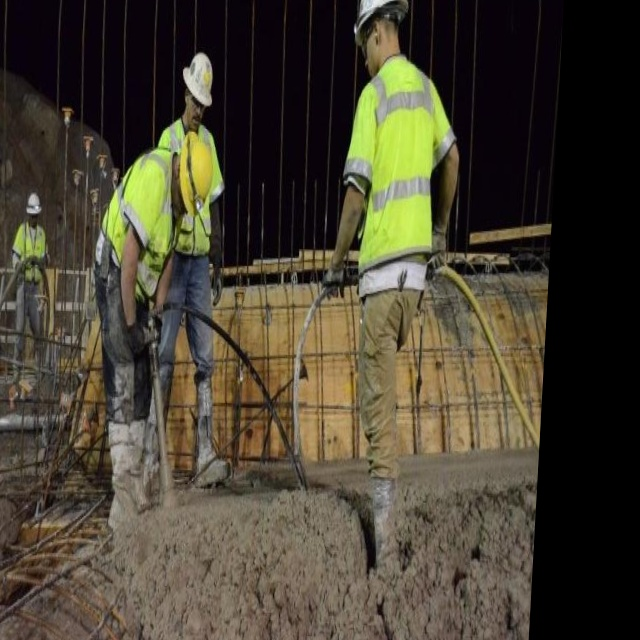Con_Casco: (172, 131, 215, 219), (351, 0, 409, 57), (179, 50, 216, 127)
Con_Chaleco: (350, 57, 444, 275), (101, 149, 175, 297)
